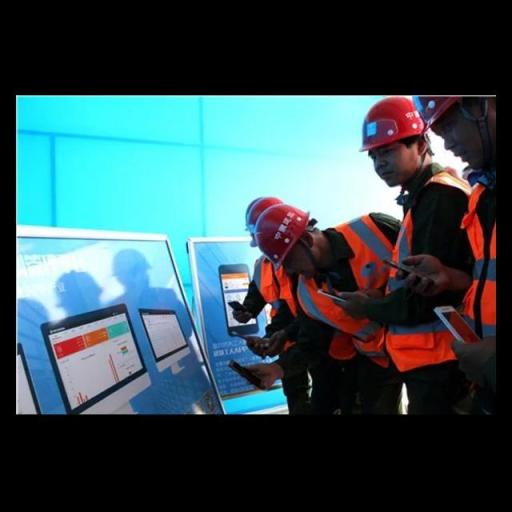Person: (345, 88, 498, 410), (242, 190, 420, 412), (392, 89, 512, 417), (238, 176, 360, 420)
helmet: (354, 93, 434, 162), (253, 197, 322, 267), (408, 93, 498, 142), (240, 193, 304, 258)
vest: (282, 208, 432, 380), (368, 162, 486, 374), (436, 166, 510, 412), (244, 250, 332, 366)
